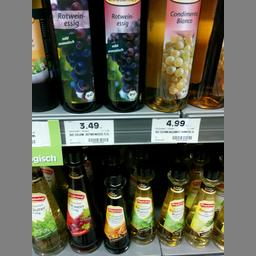vinegar: (46, 0, 103, 111), (149, 0, 200, 111), (100, 0, 146, 111), (30, 166, 68, 255), (66, 154, 100, 252), (98, 174, 132, 254), (184, 167, 217, 249), (162, 162, 188, 250), (130, 166, 156, 244)
